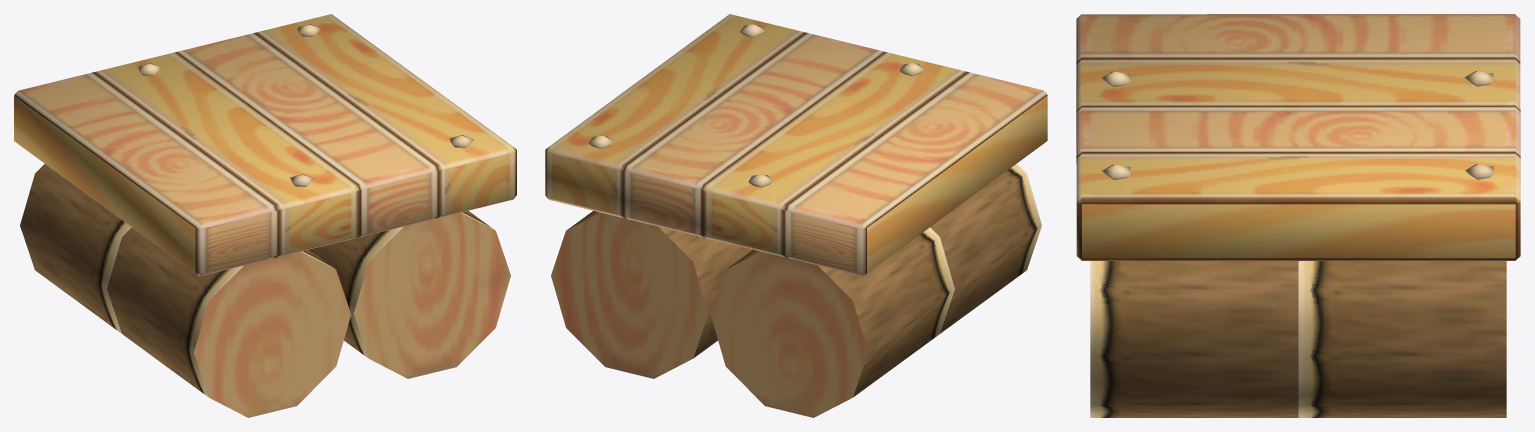
Rendered from wood_float_platform.fbx.
3 views of the same model, side by side, from view 1: azimuth 30°, elevation 25°; view 2: azimuth 150°, elevation 25°; view 3: azimuth 270°, elevation 25° (orthographic). The views are drawn at different scales.
Visible parts, largest first — view 1: m0; view 2: m0; view 3: m0.
Part boxes in pixels (x1,y1,x2,y2): m0: (14,14,516,417); m0: (545,14,1047,417); m0: (1076,14,1520,417).
Bounding box in the file's own units: 400 × 261 × 401.
1 material, 1 textured.
